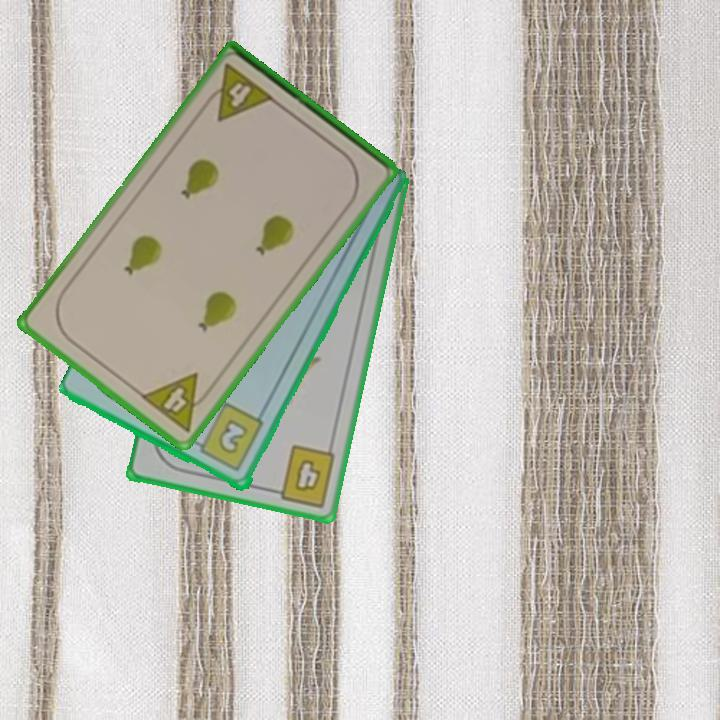2b: (189, 400, 267, 475)
4b: (266, 441, 339, 510)
4p: (137, 369, 217, 436), (199, 60, 277, 125)
